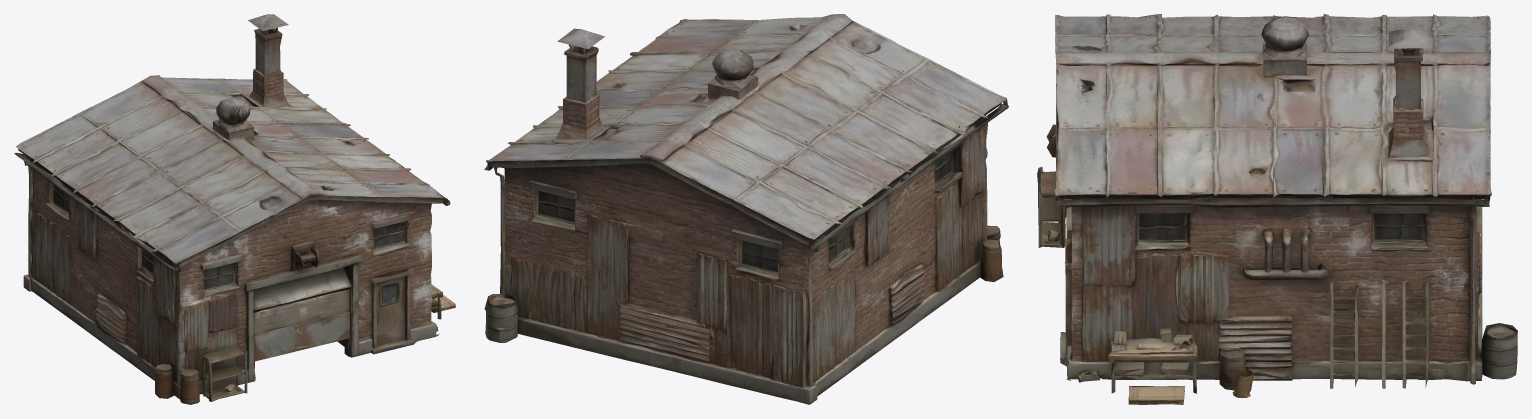
File: empresa.glb
3 views of the same model, side by side, from view 1: azimuth 30°, elevation 25°; view 2: azimuth 150°, elevation 25°; view 3: azimuth 270°, elevation 25° (orthographic). The views are drawn at different scales.
Visible parts, largest first — view 1: empresa; view 2: empresa; view 3: empresa.
Part boxes in pixels (bbox=[...]): empresa: bbox=[14, 14, 455, 404]; empresa: bbox=[484, 14, 1008, 404]; empresa: bbox=[1037, 14, 1517, 404].
Size of the model in its own units: 13.98 by 10.16 by 13.68.
Materials: 1 (1 with a texture image).
